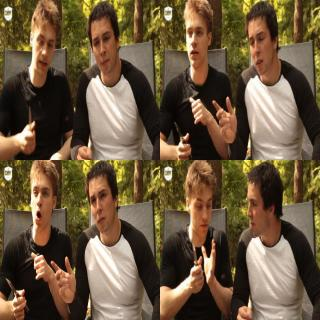knife: (3, 273, 29, 319), (186, 234, 204, 284), (172, 118, 192, 160), (22, 100, 38, 152)
